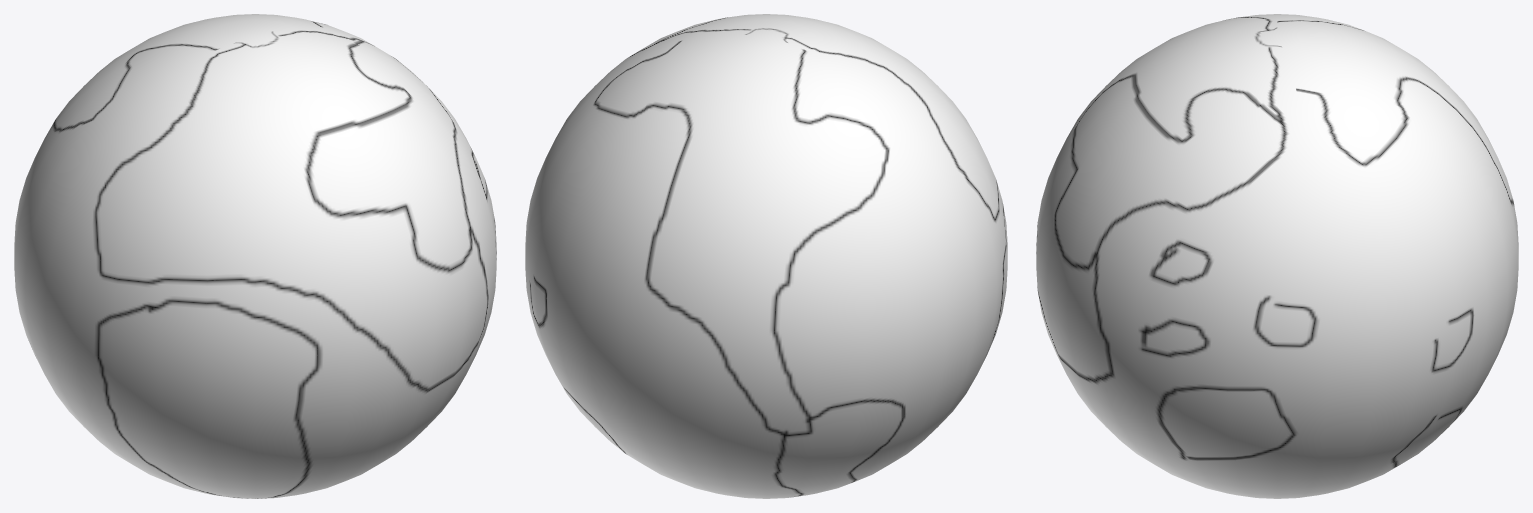
File: Earth.fbx
3 views of the same model, side by side, from view 1: azimuth 30°, elevation 25°; view 2: azimuth 150°, elevation 25°; view 3: azimuth 270°, elevation 25° (orthographic).
Visible parts, largest first — view 1: pSphere1; view 2: pSphere1; view 3: pSphere1.
Part boxes in pixels (x1,y1,x2,y2): pSphere1: (14, 14, 496, 498); pSphere1: (525, 14, 1007, 498); pSphere1: (1036, 14, 1518, 498).
Size of the model in its own units: 9.56 by 9.56 by 9.51.
